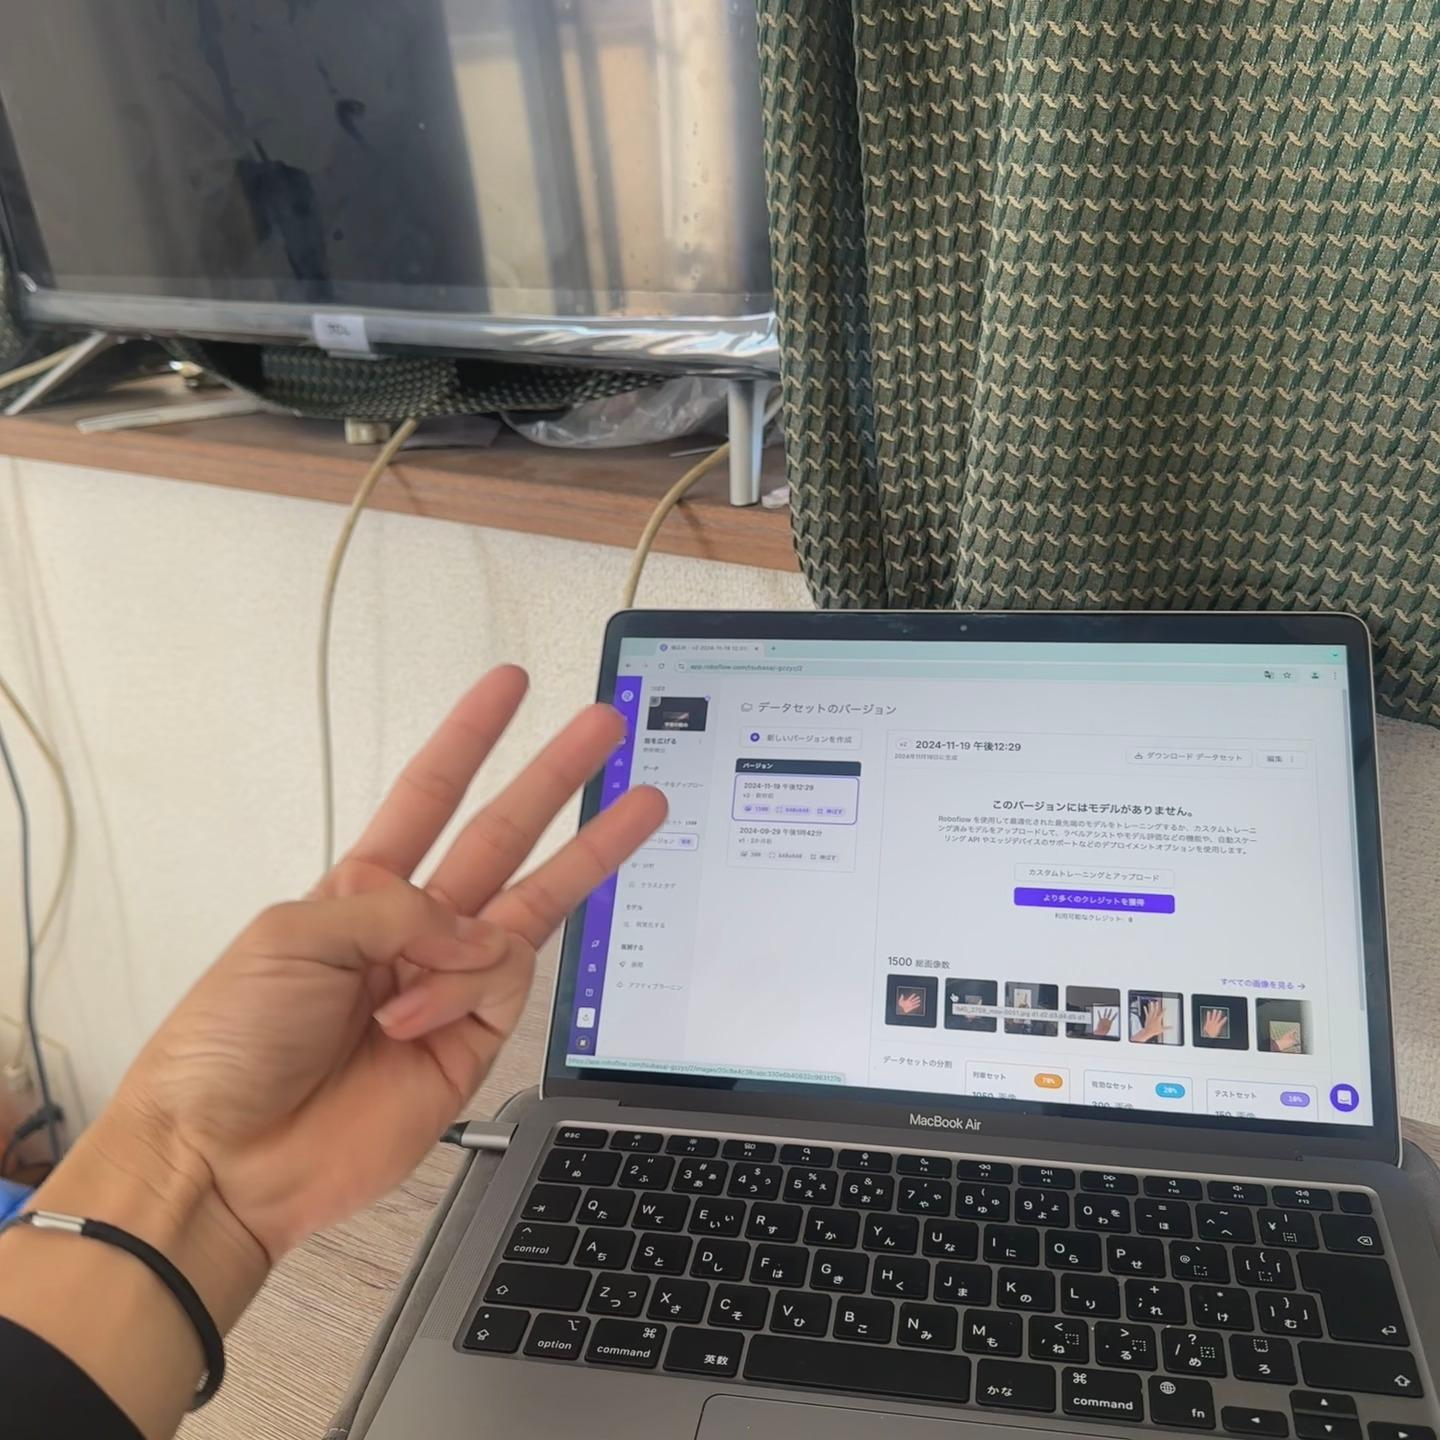without_gloves: (69, 425, 785, 1325)
